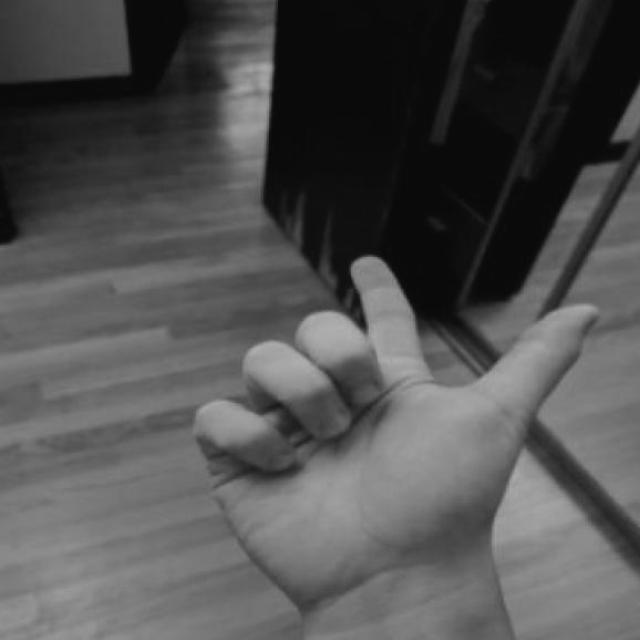L: (183, 245, 611, 618)
